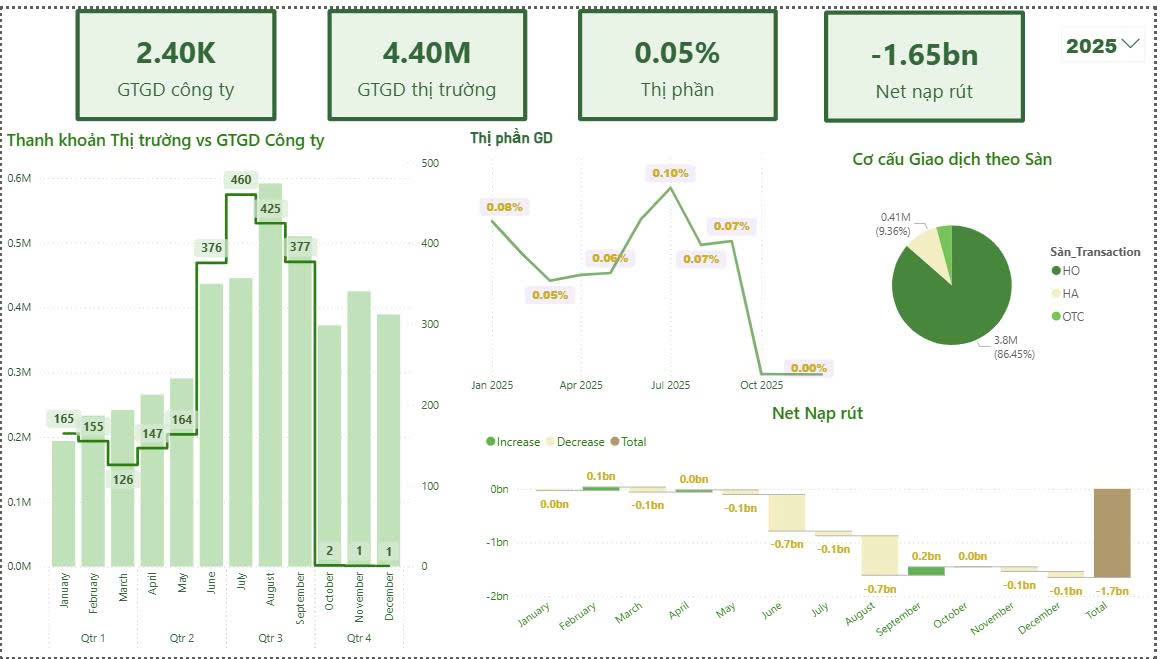

Layout of this report page (visuals, bound fields, positions):
{"tool":"powerbi","page":{"name":"Hành vi","canvas":[1280,720],"ordinal":1},"visuals":[{"type":"donutChart","title":"Số lượng lệnh BQ ngày","fields":{"Category":["Transaction.SIDE"],"Y":["Measure.Số lượng lệnh BQ ngày"]},"box":[700,148.3,555,253.3],"z":0},{"type":"multiRowCard","fields":{"Values":["Measure.Số lượng lệnh BQ ngày"]},"box":[942.2,242.2,71.1,66.7],"z":1000},{"type":"waterfallChart","title":"Net Nạp rút","fields":{"Category":["Dim_date.Date.Variation.Date Hierarchy.Month"],"Y":["Measure.Net nạp rút"]},"box":[16.7,148.3,640,253.3],"z":2000},{"type":"lineChart","title":"Net Nạp rút","fields":{"Category":["Nạp rút.TRANDATE"],"Y":["Measure.Net nạp rút"]},"box":[16.7,11.7,1226.7,113.3],"z":3000},{"type":"columnChart","fields":{"Category":["Dim_date.Date.Variation.Date Hierarchy.Quarter","Dim_date.Date.Variation.Date Hierarchy.Month"],"Y":["Sum(Fact Nav.GIATRITIEN)","Sum(Fact Nav.GIATRICHUNGKHOAN)","Sum(Fact Nav.GIATRINAV)"]},"box":[16.7,430,640,268.3],"z":4000},{"type":"lineChart","title":"Dư nợ Margin BQ ","fields":{"Category":["Dim_date.Date.Variation.Date Hierarchy.Month"],"Y":["Measure.Dư nợ Margin BQ"]},"box":[700,430,543.3,268.3],"z":5000}]}

Visuals, with their boxes in screenshot pixels (x1, y1, x2, y2), scaled from the page's 1280x720 canvas onto the 1161x659 screenshot:
"Số lượng lệnh BQ ngày" donutChart: (left=635, top=136, right=1138, bottom=368)
multiRowCard - Measure.Số lượng lệnh BQ ngày: (left=855, top=222, right=919, bottom=283)
"Net Nạp rút" waterfallChart: (left=15, top=136, right=596, bottom=368)
"Net Nạp rút" lineChart: (left=15, top=11, right=1128, bottom=114)
columnChart - Dim_date.Date.Variation.Date Hierarchy.Quarter x Dim_date.Date.Variation.Date Hierarchy.Month: (left=15, top=394, right=596, bottom=639)
"Dư nợ Margin BQ " lineChart: (left=635, top=394, right=1128, bottom=639)
